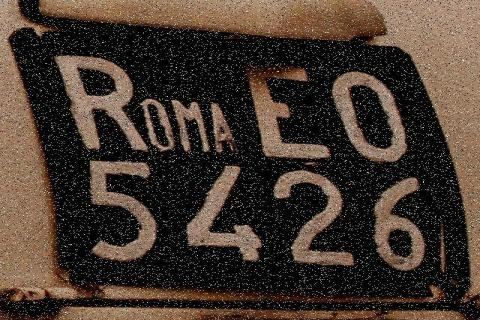LicensePlate: (10, 26, 480, 297)
